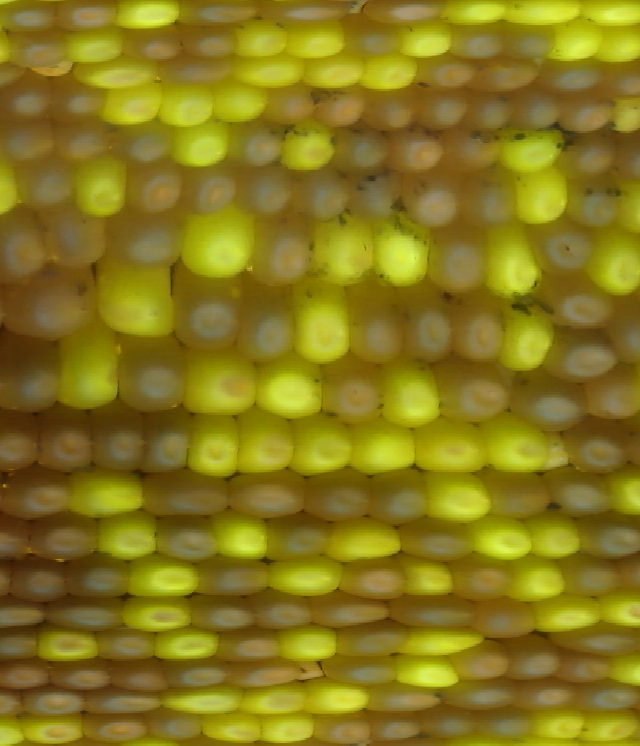fluorescent: (96, 249, 180, 343), (183, 341, 262, 419), (178, 204, 256, 282), (478, 217, 547, 303), (312, 208, 381, 287), (289, 285, 356, 362), (60, 325, 120, 409), (370, 208, 430, 291), (414, 412, 493, 475), (481, 411, 556, 475), (233, 406, 301, 475), (349, 417, 421, 477), (500, 297, 559, 370), (420, 467, 494, 525), (293, 412, 359, 476), (489, 119, 564, 175), (70, 465, 152, 516), (385, 354, 437, 433), (264, 355, 325, 422), (207, 504, 273, 562), (77, 48, 167, 90), (188, 412, 246, 477), (127, 553, 205, 601), (268, 551, 347, 597), (465, 511, 536, 562), (588, 228, 640, 295), (231, 51, 310, 95), (537, 17, 609, 65), (523, 504, 579, 565), (331, 516, 410, 559), (93, 508, 157, 560), (279, 119, 338, 174), (159, 680, 243, 717), (37, 620, 106, 665), (302, 676, 377, 717), (101, 81, 164, 129), (77, 160, 128, 219), (393, 653, 464, 693), (212, 77, 268, 127), (395, 18, 462, 59), (360, 49, 421, 93), (147, 624, 220, 660), (239, 680, 312, 716), (121, 598, 198, 632), (509, 556, 567, 601), (285, 14, 347, 56), (299, 53, 367, 91), (156, 85, 216, 128), (170, 124, 230, 167), (230, 14, 289, 57), (21, 709, 89, 746), (401, 627, 485, 656), (535, 595, 604, 629), (400, 554, 453, 598), (201, 709, 267, 743), (63, 28, 133, 60), (537, 707, 594, 746), (283, 624, 341, 659), (602, 580, 640, 632), (265, 712, 320, 746), (118, 2, 183, 30), (585, 714, 640, 746), (610, 461, 640, 513), (599, 22, 640, 59)
nonfluorescent: (0, 269, 94, 340), (116, 338, 193, 417), (174, 274, 247, 349), (175, 271, 243, 348), (347, 290, 414, 366), (453, 291, 511, 378), (0, 339, 68, 412), (509, 367, 584, 432), (538, 324, 621, 381), (430, 220, 491, 297), (111, 208, 184, 271), (246, 276, 300, 360), (264, 220, 330, 288), (32, 404, 95, 475), (0, 206, 53, 290), (90, 406, 151, 476), (147, 465, 232, 514), (51, 203, 114, 269), (28, 503, 105, 557), (0, 467, 70, 523), (231, 464, 306, 516), (300, 467, 374, 519), (48, 64, 106, 129), (457, 169, 521, 227), (401, 290, 453, 361), (181, 160, 244, 217), (560, 416, 625, 471), (588, 357, 639, 427), (42, 596, 131, 635), (554, 464, 611, 524), (575, 511, 640, 562), (241, 162, 295, 223), (306, 591, 395, 628), (489, 471, 556, 520), (152, 516, 217, 566), (533, 224, 590, 281), (344, 165, 410, 213), (452, 551, 515, 601), (390, 593, 480, 628), (370, 469, 428, 523), (558, 275, 617, 328), (341, 556, 409, 601), (407, 517, 470, 565), (386, 125, 446, 175), (270, 514, 336, 559), (196, 555, 270, 595), (9, 553, 67, 604), (509, 86, 569, 135), (151, 406, 194, 474), (504, 16, 558, 70), (567, 180, 625, 230), (62, 555, 131, 597), (438, 128, 505, 171), (0, 71, 54, 124), (293, 167, 348, 218), (127, 159, 184, 208), (554, 624, 640, 656), (417, 696, 472, 746), (443, 674, 516, 711), (412, 85, 468, 133), (480, 593, 537, 640), (565, 134, 623, 180), (565, 549, 623, 595), (505, 635, 564, 680), (565, 85, 616, 137), (337, 124, 388, 176), (235, 117, 285, 170), (368, 87, 426, 132), (420, 56, 486, 95), (312, 706, 376, 746), (62, 119, 117, 164), (322, 651, 394, 685), (575, 676, 639, 714), (406, 174, 451, 228), (144, 706, 204, 746), (238, 650, 306, 685), (514, 672, 580, 708), (122, 119, 172, 166), (372, 678, 441, 712), (2, 122, 62, 161), (193, 595, 259, 630), (220, 624, 284, 660), (268, 77, 317, 124), (0, 412, 39, 471), (52, 656, 117, 691), (478, 704, 532, 746), (48, 1, 120, 32), (178, 18, 236, 56), (172, 661, 233, 696), (448, 23, 502, 62), (75, 712, 142, 743), (316, 83, 369, 122), (558, 646, 611, 685), (26, 685, 88, 718), (90, 685, 163, 713), (6, 34, 69, 66), (256, 586, 310, 623), (457, 648, 514, 683), (131, 22, 181, 61), (547, 57, 605, 90), (0, 628, 49, 667), (0, 512, 38, 562), (484, 56, 542, 88), (0, 592, 48, 630), (470, 90, 510, 134), (106, 622, 152, 660), (115, 657, 167, 690), (2, 3, 57, 34), (186, 3, 253, 27), (0, 660, 57, 686), (374, 711, 416, 746)
